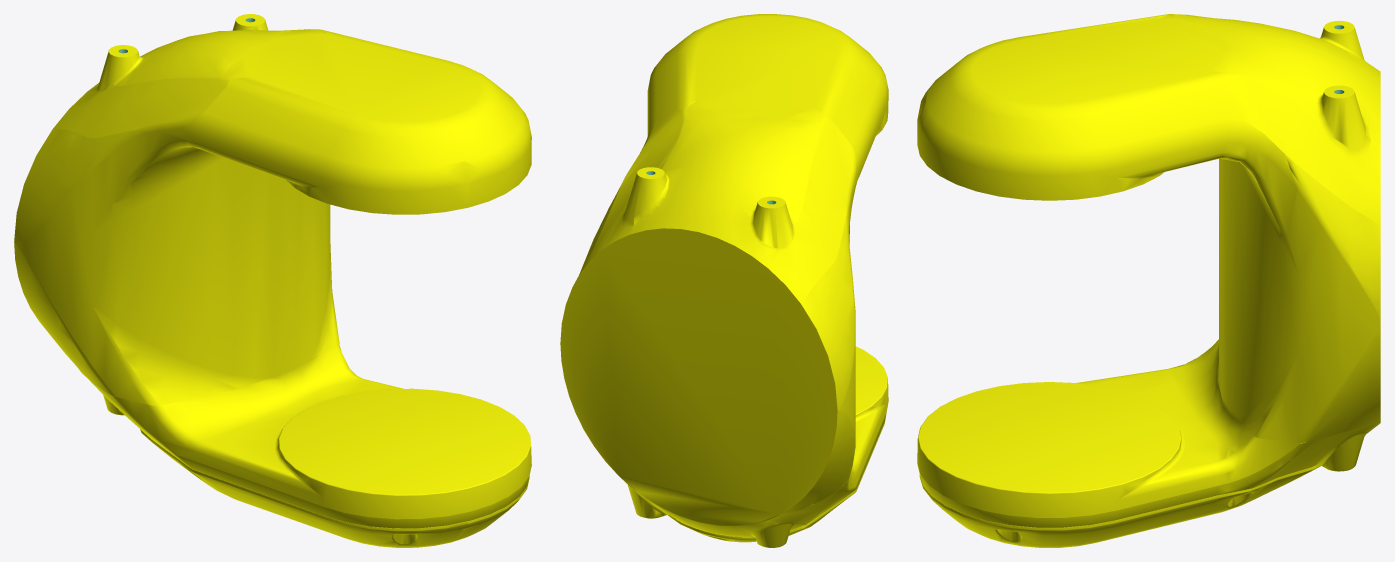
3 views of the same model, side by side, from view 1: azimuth 30°, elevation 25°; view 2: azimuth 150°, elevation 25°; view 3: azimuth 270°, elevation 25° (orthographic). The views are drawn at different scales.
Visible parts, largest first — view 1: Mesh_0; view 2: Mesh_0; view 3: Mesh_0.
Part boxes in pixels (x1,y1,x2,y2): Mesh_0: [14, 14, 531, 547]; Mesh_0: [560, 14, 888, 547]; Mesh_0: [917, 14, 1380, 547].
Size of the model in its own units: 0.199 by 0.235 by 0.224.
